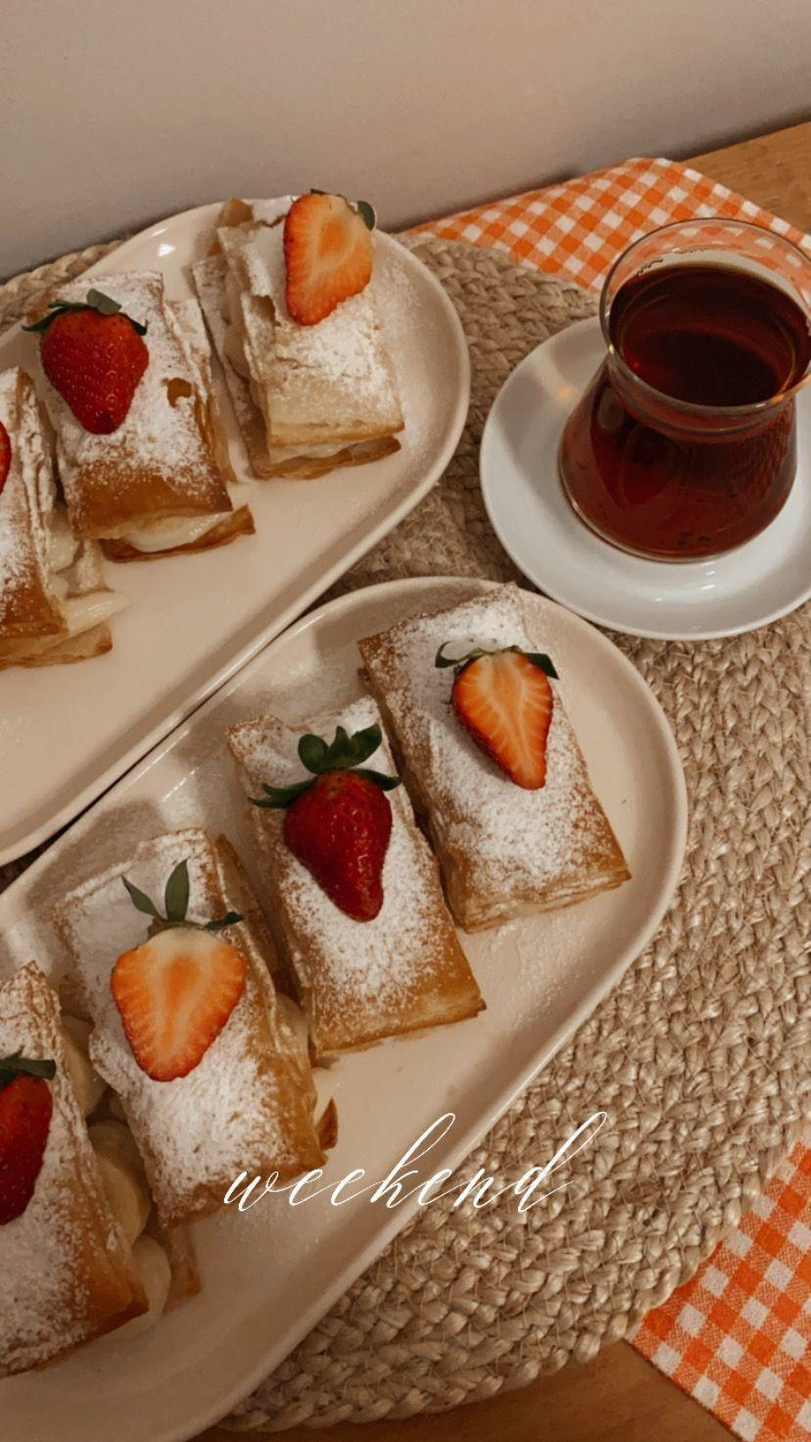glass-normal: (550, 216, 811, 557)
